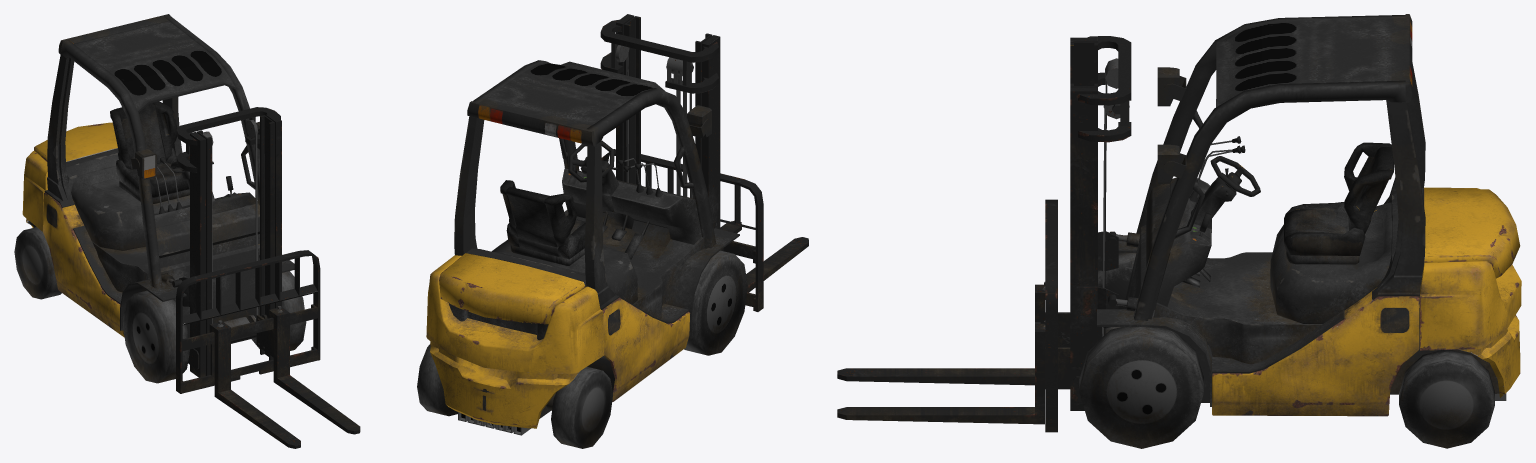
File: Forklift2.glb
3 views of the same model, side by side, from view 1: azimuth 30°, elevation 25°; view 2: azimuth 150°, elevation 25°; view 3: azimuth 270°, elevation 25° (orthographic). The views are drawn at different scales.
Parts seen in each view (by area): view 1: Body; view 2: Body; view 3: Body.
Boxes of the visible parts, x1,y1,x2,y2 form: Body: [14, 14, 360, 448]; Body: [417, 14, 808, 448]; Body: [837, 14, 1521, 448].
Size of what is drawn, in the model's own units: 1.46 by 2.38 by 4.17.
Materials: 39 (1 with a texture image).
